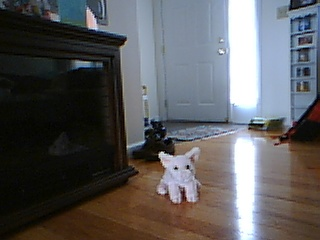piggy: (155, 146, 206, 205)
